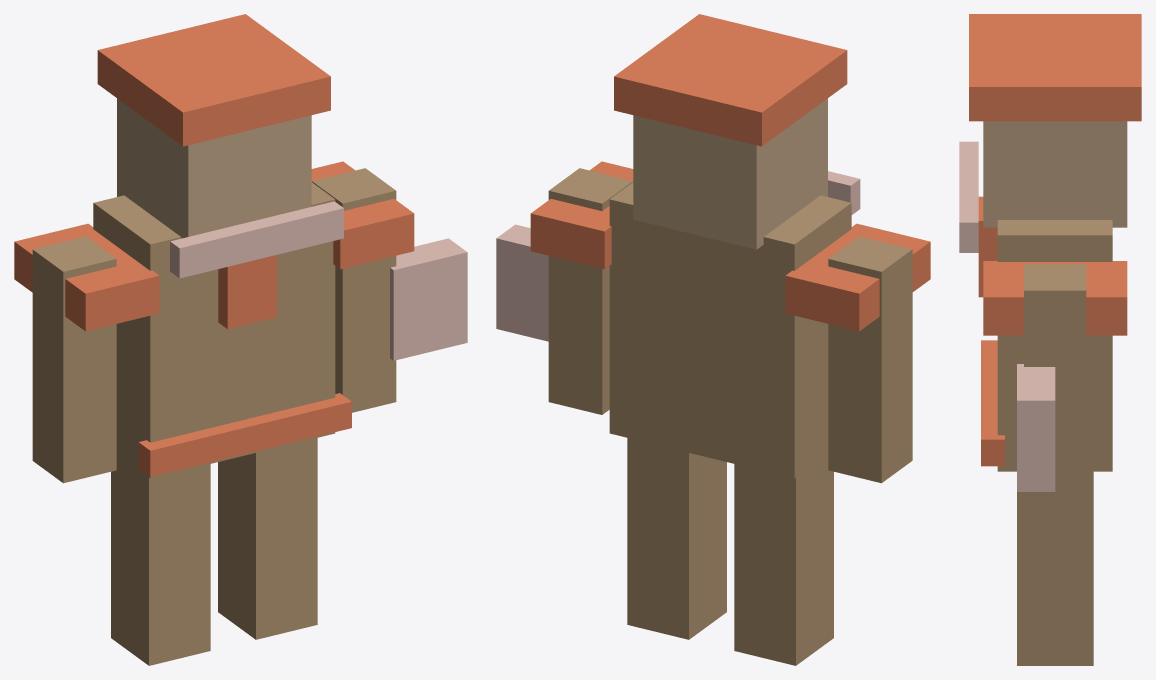
File: 12_edda_frostrelay_diver_from_silent.glb
3 views of the same model, side by side, from view 1: azimuth 30°, elevation 25°; view 2: azimuth 150°, elevation 25°; view 3: azimuth 270°, elevation 25° (orthographic).
Parts seen in each view (by area): view 1: Edda Frostrelay, Diver from Silent; view 2: Edda Frostrelay, Diver from Silent; view 3: Edda Frostrelay, Diver from Silent.
Part boxes in pixels (bbox=[...]): Edda Frostrelay, Diver from Silent: bbox=[14, 14, 467, 665]; Edda Frostrelay, Diver from Silent: bbox=[496, 14, 930, 665]; Edda Frostrelay, Diver from Silent: bbox=[959, 14, 1141, 665].
Bounding box in the file's own units: 1.07 × 1.45 × 0.4175.
